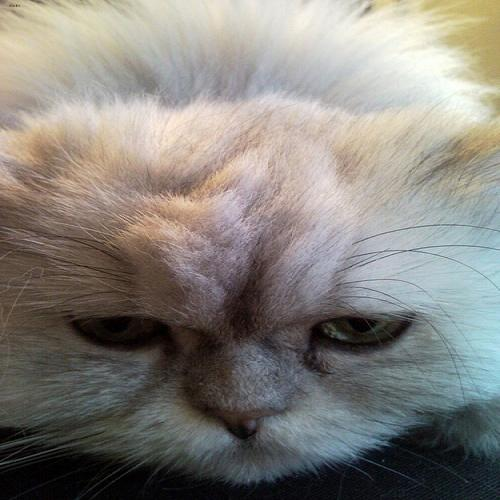persian: (1, 127, 500, 500)
